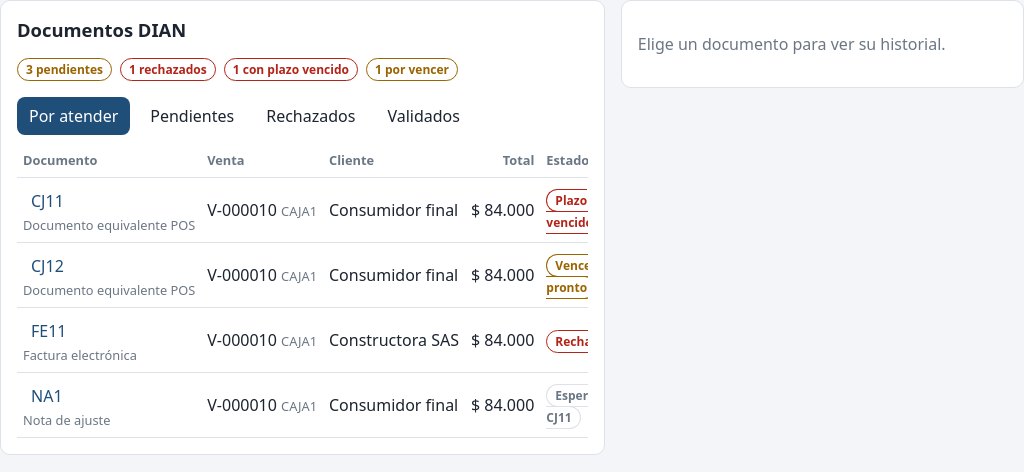
Test case: bandeja de documentos DIAN › el filtro cambia la consulta
Expected: the element named "Resumen" is shown, top-left (17, 58), bottom-right (458, 81)
Click the button "Rechazados" at [311, 116], box top-left (254, 97), bottom-right (367, 135)
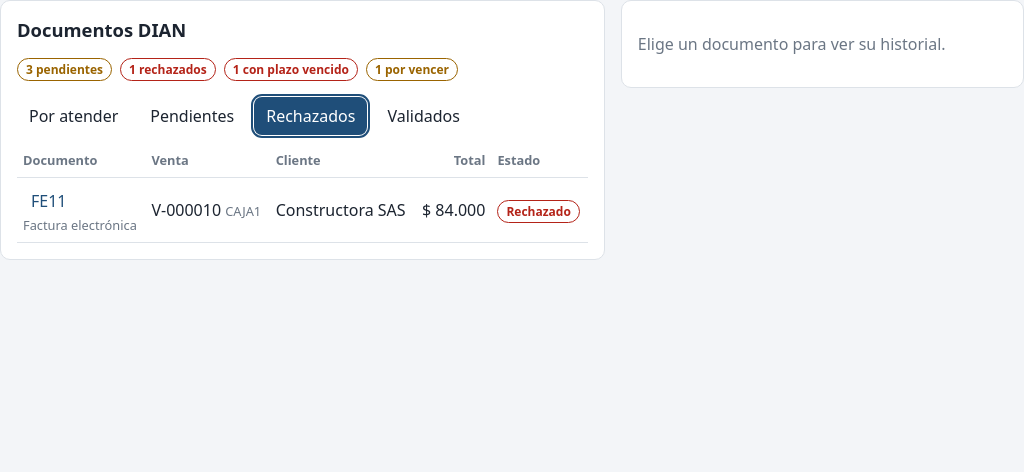
Expected: the row "FE11" is shown, top-left (17, 178), bottom-right (588, 242)
Result: the button "CJ11 " is gone
